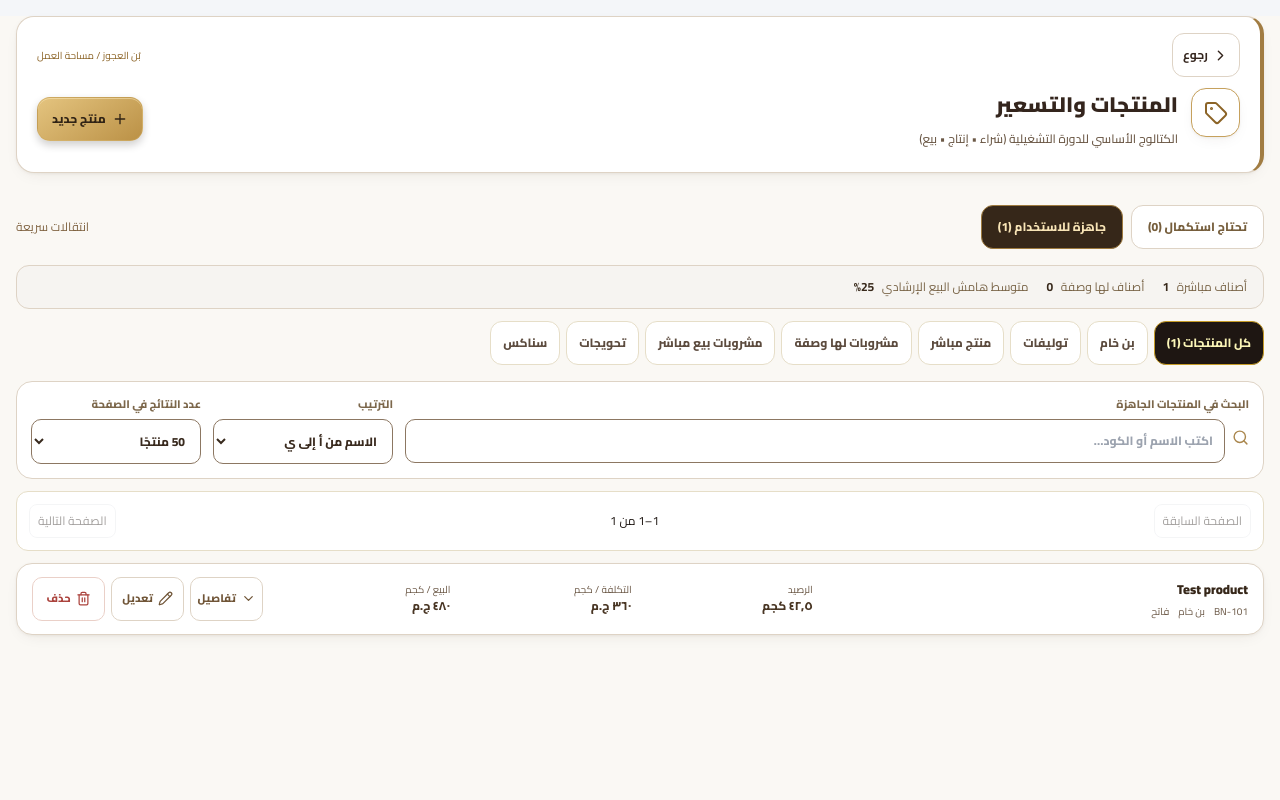
Test: keeps a linked product rejection visible and does not delete on cancel
Click the button with aria-label "حذف المنتج Test product" at (69,598), box [32,576,105,620]
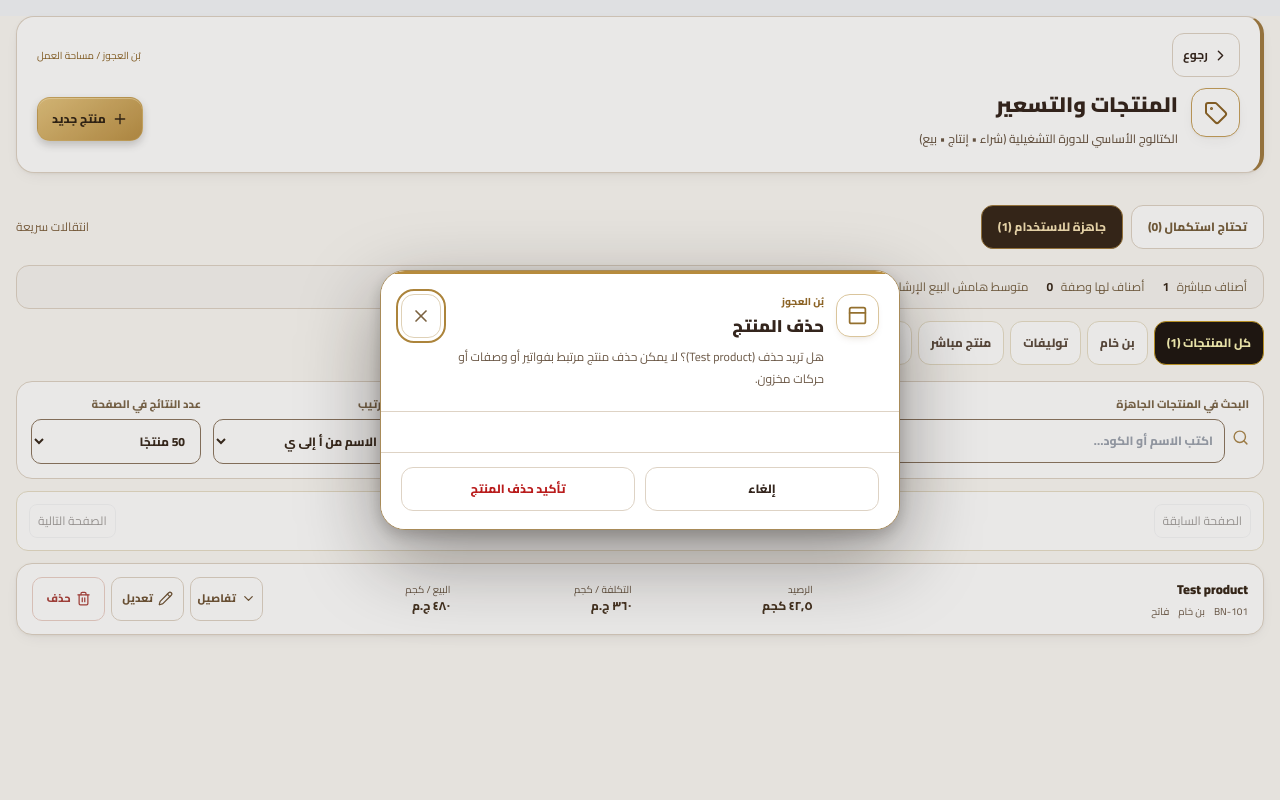
Click the button "إلغاء" at (762,489), box [645,467,879,511]
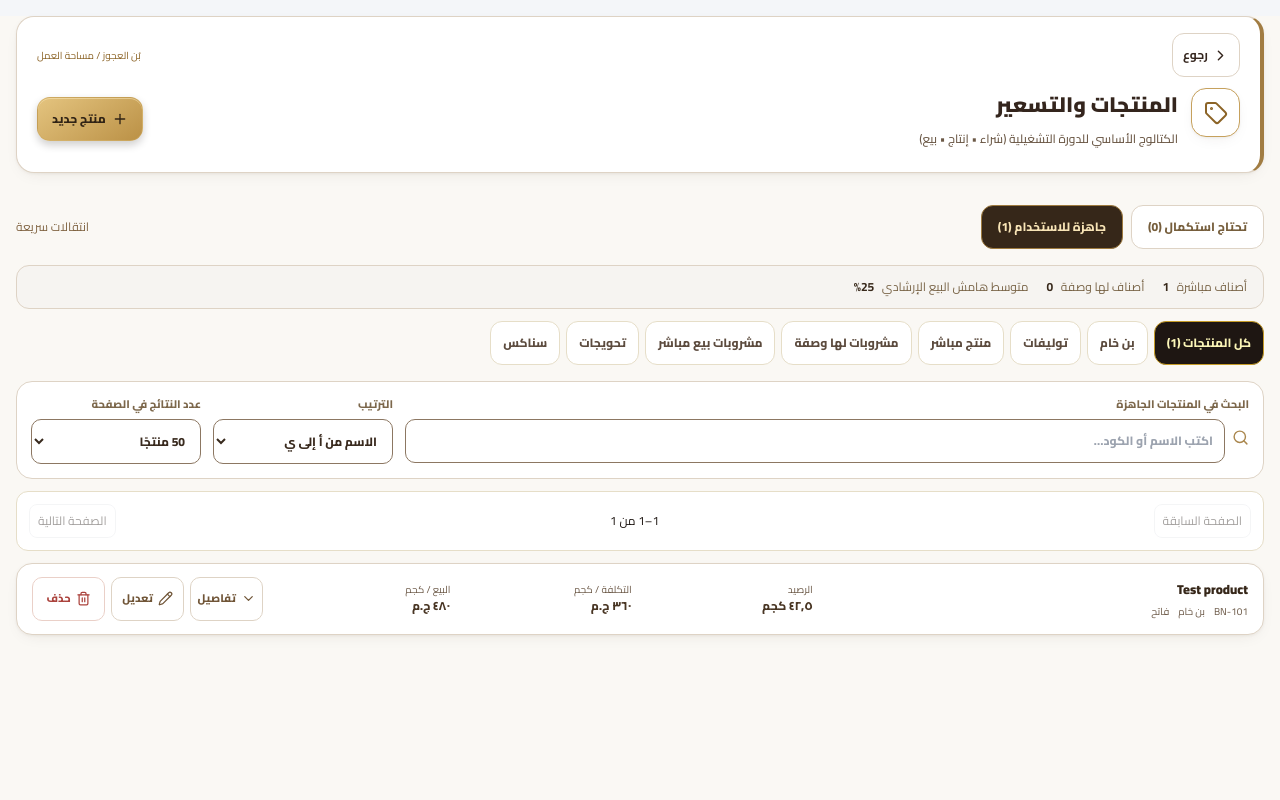
Click the button with aria-label "حذف المنتج Test product" at (69,598), box [32,576,105,620]
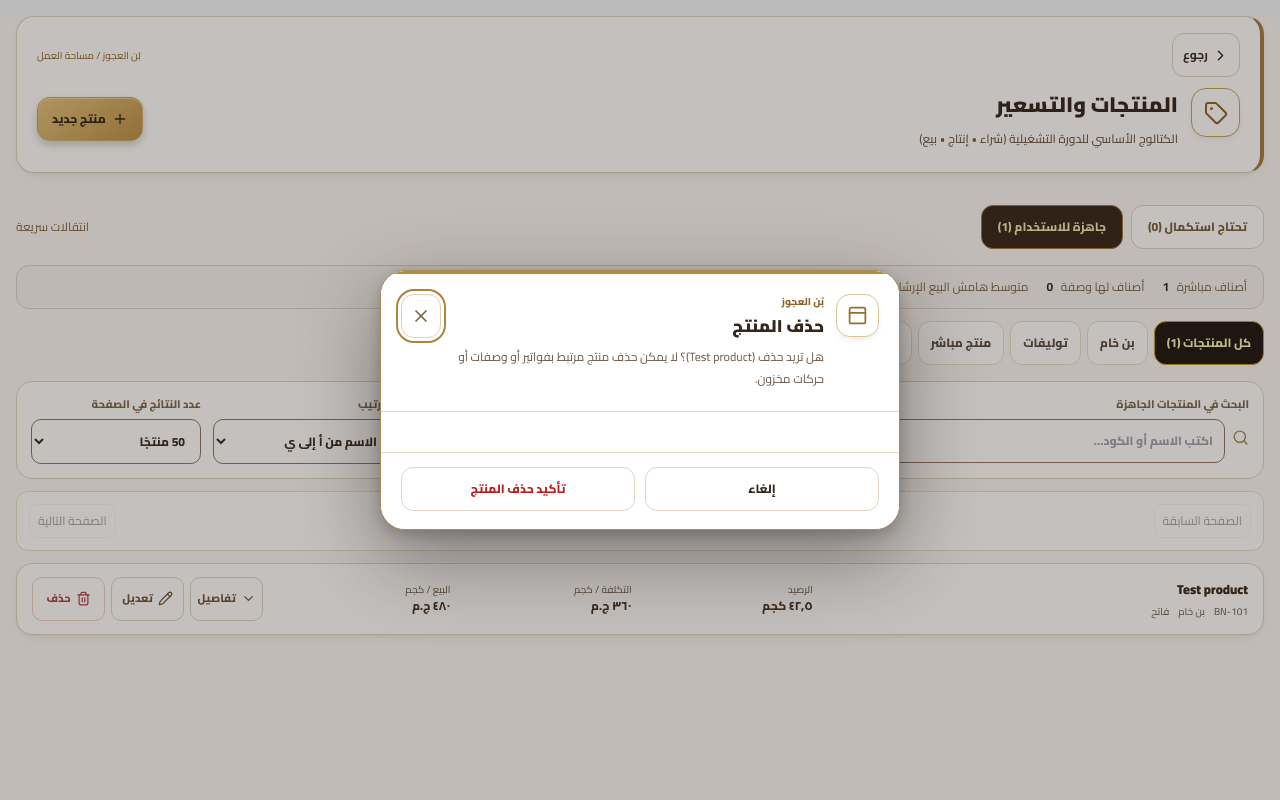
Click the button "تأكيد حذف المنتج" at (518,489), box [401,467,635,511]
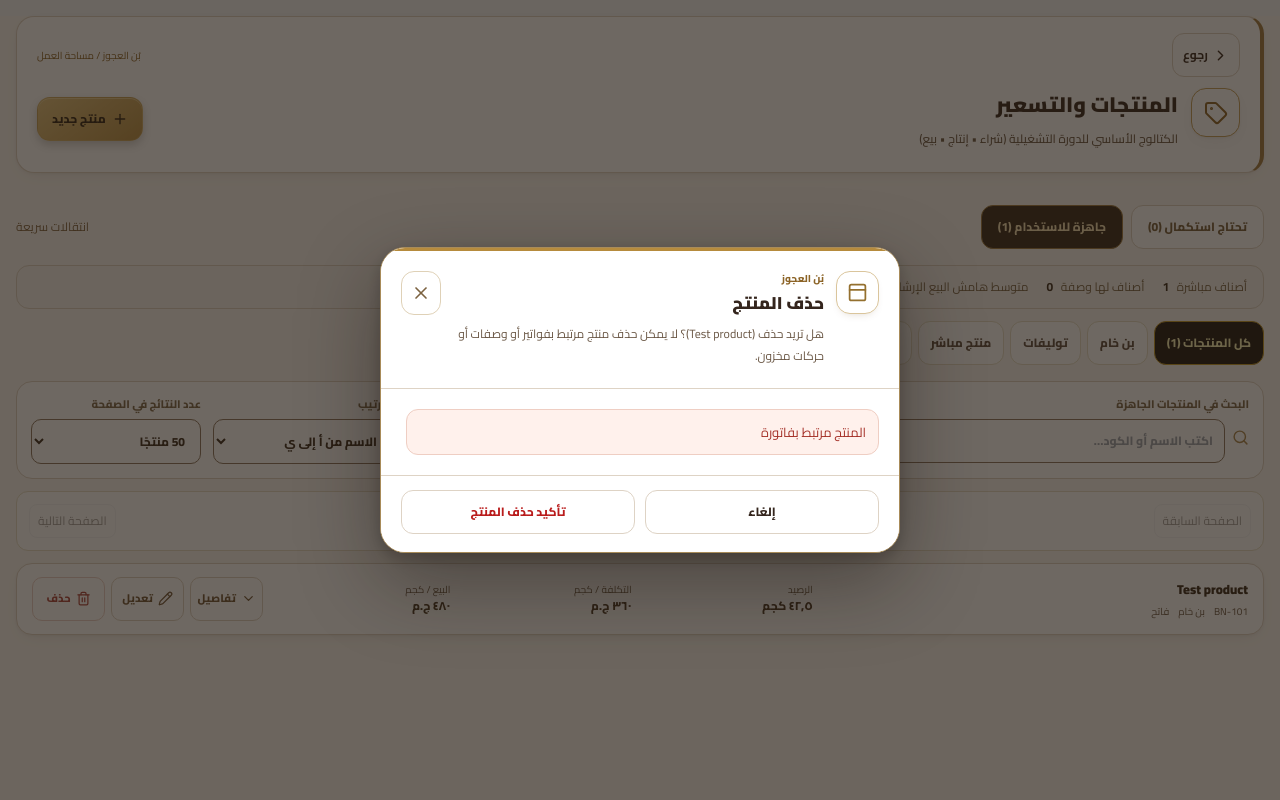
Result: the dialog is shown at [380,247,900,553]
Result: the message reads "المنتج مرتبط بفاتورة" at [761,420,866,444]
